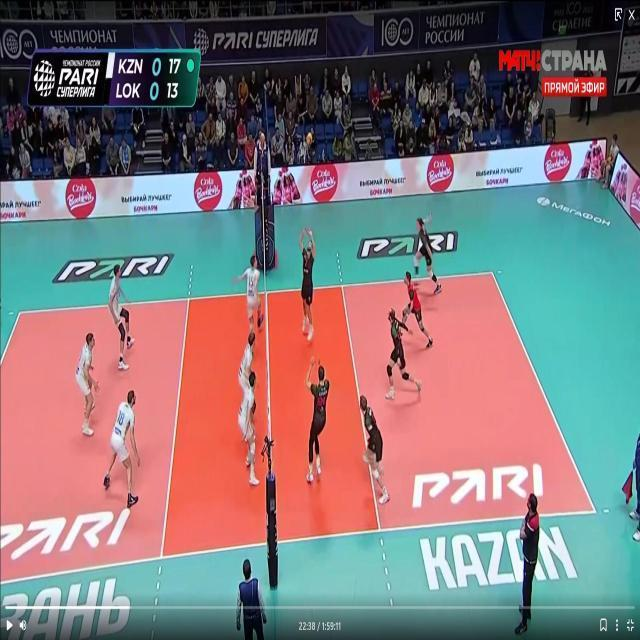volleyball: (306, 133, 313, 144)
